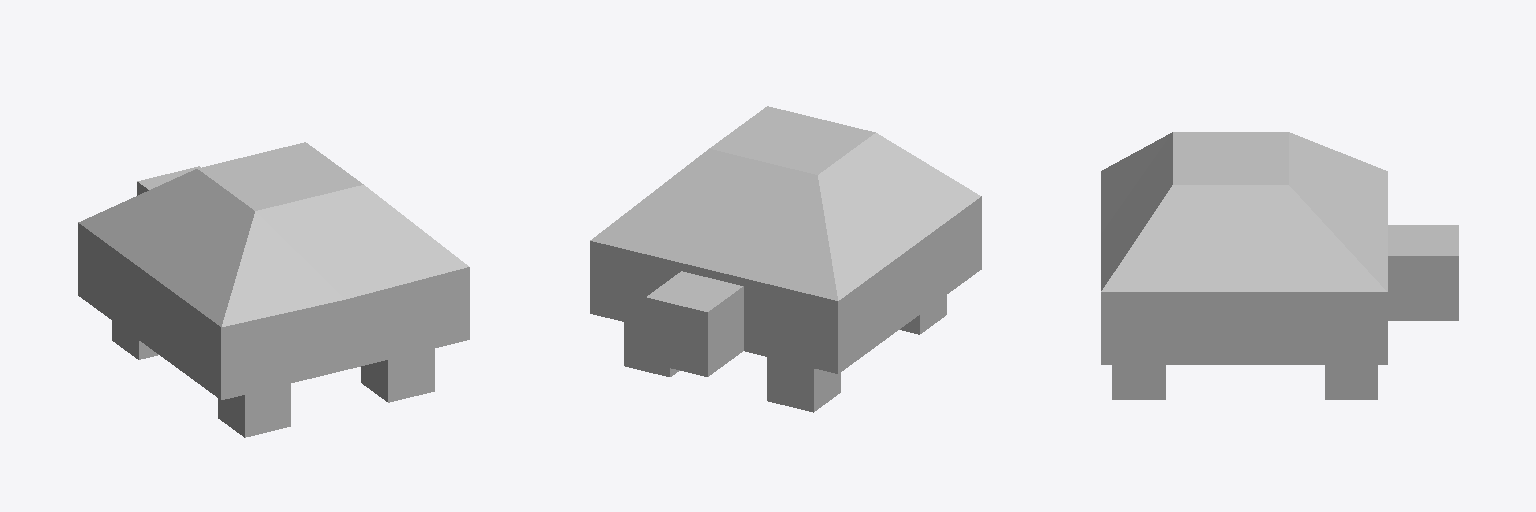
File: turtle.obj
3 renders of one model, left to right at view 1: azimuth 30°, elevation 25°; view 2: azimuth 150°, elevation 25°; view 3: azimuth 270°, elevation 25°, orthographic.
Parts seen in each view (by area): view 1: Cube, Cube.002; view 2: Cube, Cube.001, Cube.002; view 3: Cube, Cube.001, Cube.002.
Boxes of the visible parts, x1,y1,x2,y2 form: Cube: [78, 142, 469, 399]; Cube.002: [112, 321, 434, 437]; Cube: [590, 106, 981, 373]; Cube.001: [646, 271, 743, 376]; Cube.002: [624, 295, 946, 412]; Cube: [1101, 132, 1387, 364]; Cube.001: [1388, 225, 1458, 320]; Cube.002: [1112, 365, 1377, 399].
Bounding box in the file's own units: 0.7502 × 0.5625 × 0.9371.